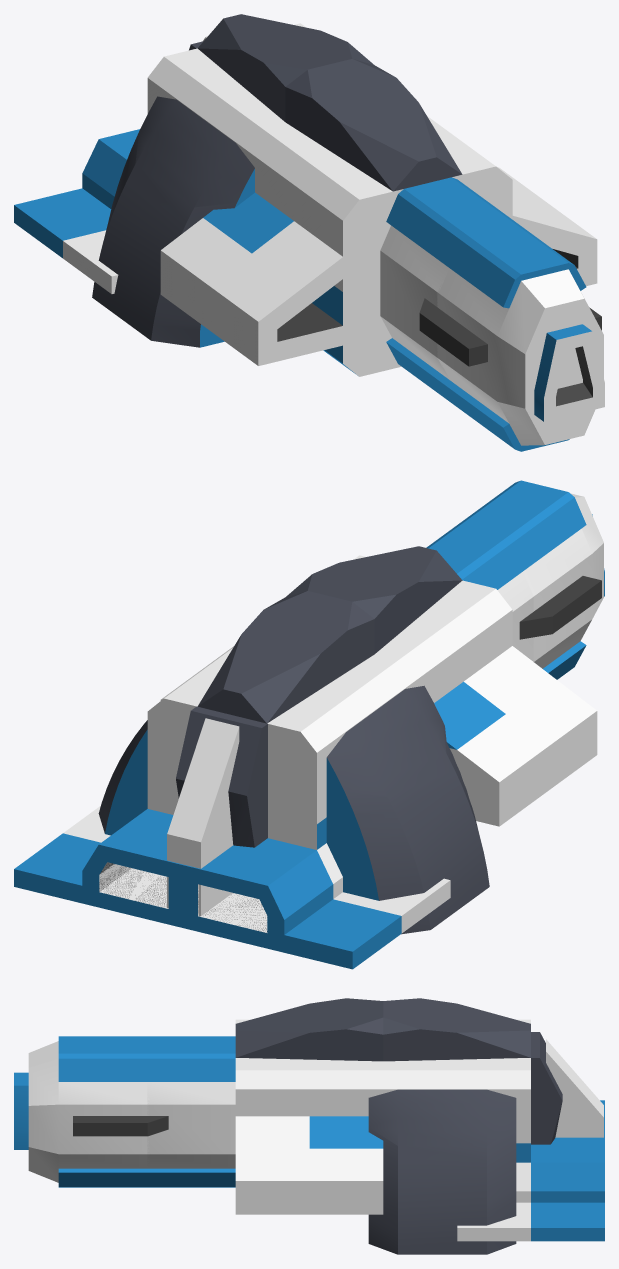
File: turret.obj
The picture shows the model from 3 angles, top to bottom: view 1: azimuth 30°, elevation 25°; view 2: azimuth 150°, elevation 25°; view 3: azimuth 270°, elevation 25°; orthographic projection. The views are drawn at different scales.
Bounding box in the file's own units: 2 × 1.37 × 4.
